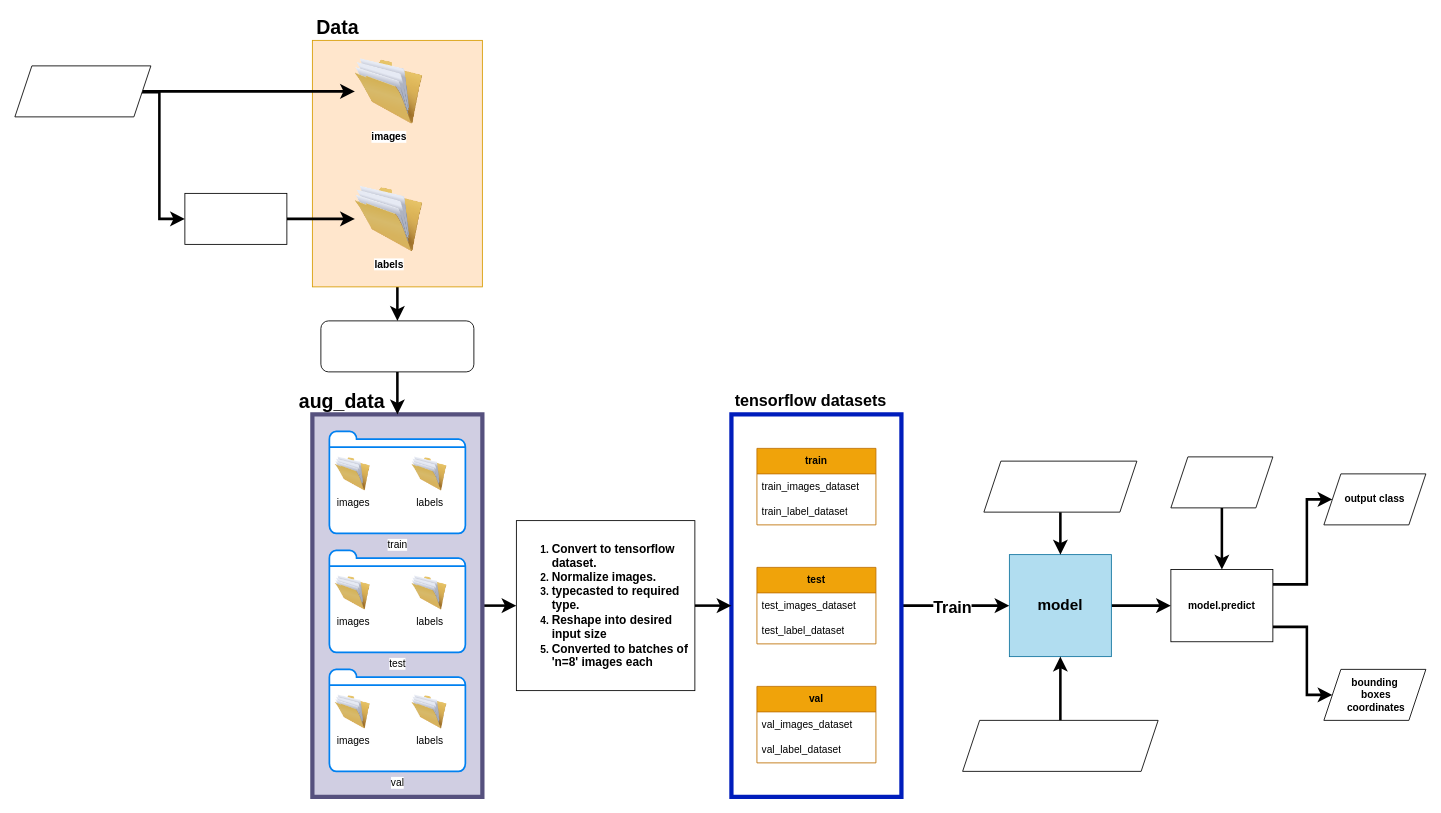
The diagram is 1441 pixels wide and 813 high, and some of its shapes have lost their labels. The shapes that lost their labels are listed below. From the top down, each one's centre as x and y in pixels, then its label:
At [82,91]: "collect raw images from source".
At [235,218]: "Annotations".
At [397,346]: "Data Augmentation Train test split".
At [1060,486]: "localisation loss classification loss".
At [1221,482]: "Input Test imge".
At [1060,745]: "Adam Optimiser (initial learning rate) (learning rate decay per step)".
